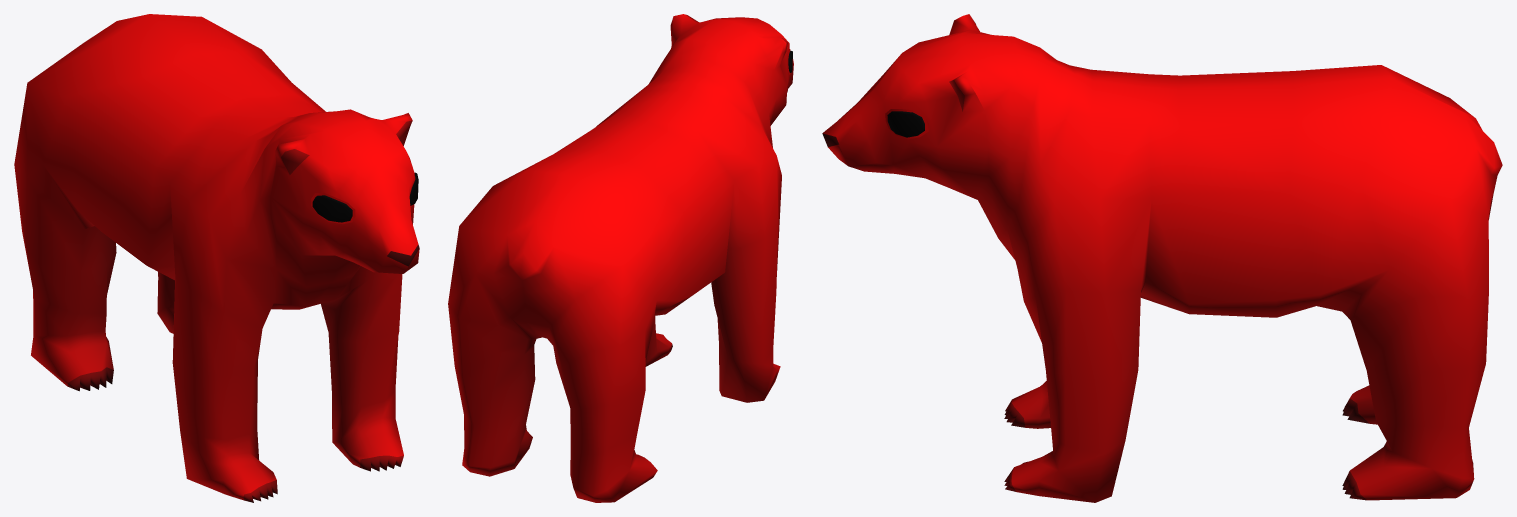
The model's file is Animals_PolarBear.fbx.
The picture shows the model from 3 angles, left to right: view 1: azimuth 30°, elevation 25°; view 2: azimuth 150°, elevation 25°; view 3: azimuth 270°, elevation 25°; orthographic projection. The views are drawn at different scales.
Visible parts, largest first — view 1: base; view 2: base; view 3: base.
Part boxes in pixels (x1,y1,x2,y2): base: (14, 14, 419, 502); base: (448, 14, 793, 502); base: (822, 14, 1502, 502).
Bounding box in the file's own units: 90.93 × 149 × 224.
